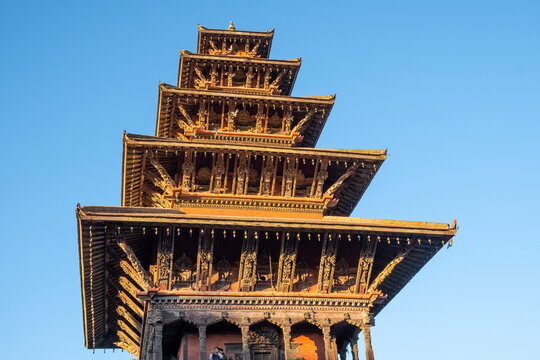nyathapola: (63, 5, 483, 359)
